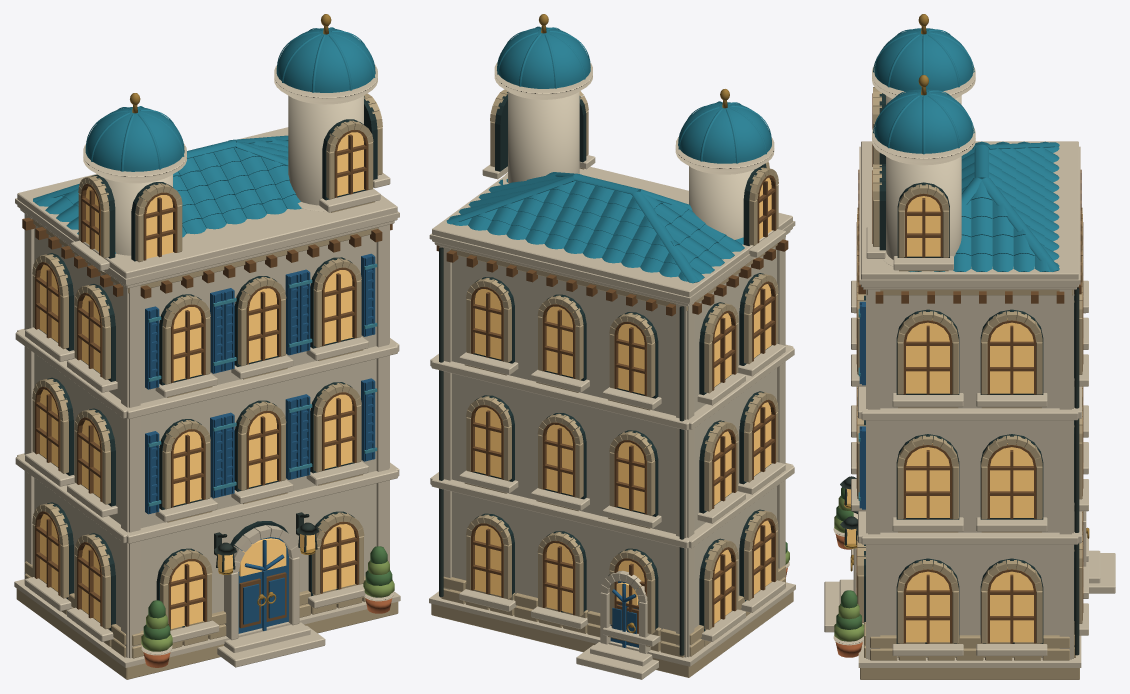
3 views of the same model, side by side, from view 1: azimuth 30°, elevation 25°; view 2: azimuth 150°, elevation 25°; view 3: azimuth 270°, elevation 25° (orthographic). The views are drawn at different scales.
Visible parts, largest first — view 1: harbor_hotel_3_geometry, harbor_hotel_3_geometry ceramic; view 2: harbor_hotel_3_geometry, harbor_hotel_3_geometry ceramic; view 3: harbor_hotel_3_geometry, harbor_hotel_3_geometry ceramic.
Boxes of the visible parts, x1=… form: harbor_hotel_3_geometry: x1=14, y1=14, x2=400, y2=679; harbor_hotel_3_geometry ceramic: x1=33, y1=27, x2=377, y2=506; harbor_hotel_3_geometry: x1=429, y1=14, x2=795, y2=679; harbor_hotel_3_geometry ceramic: x1=446, y1=26, x2=771, y2=283; harbor_hotel_3_geometry: x1=824, y1=14, x2=1115, y2=679; harbor_hotel_3_geometry ceramic: x1=858, y1=28, x2=1059, y2=500.
Size of the model in its own units: 0.9118 by 1.76 by 0.7937.
